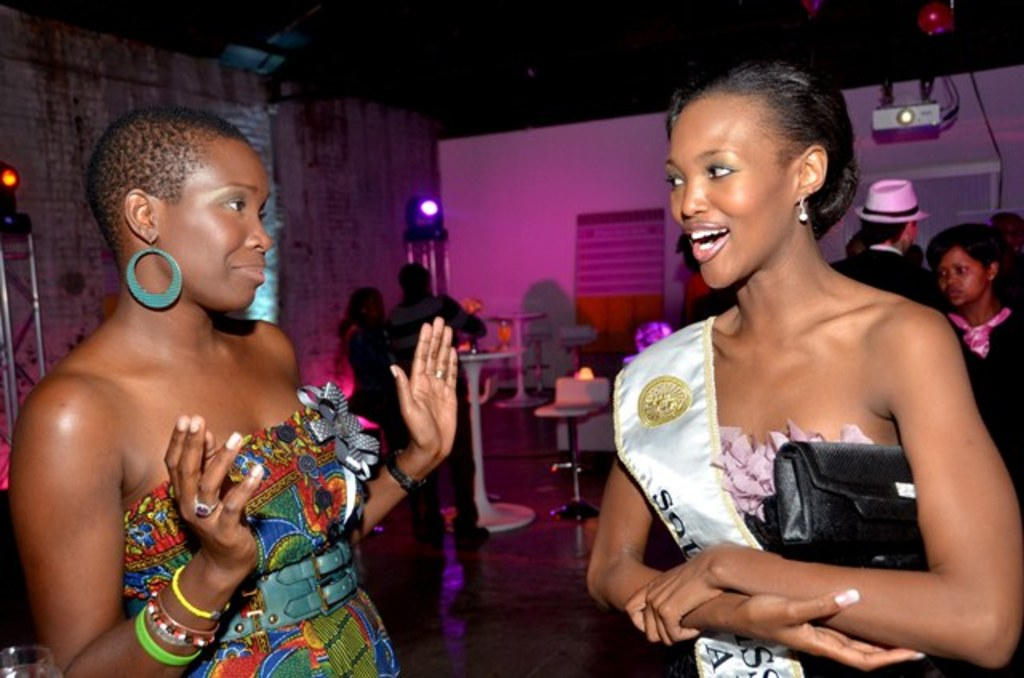person: (514, 276, 600, 393)
